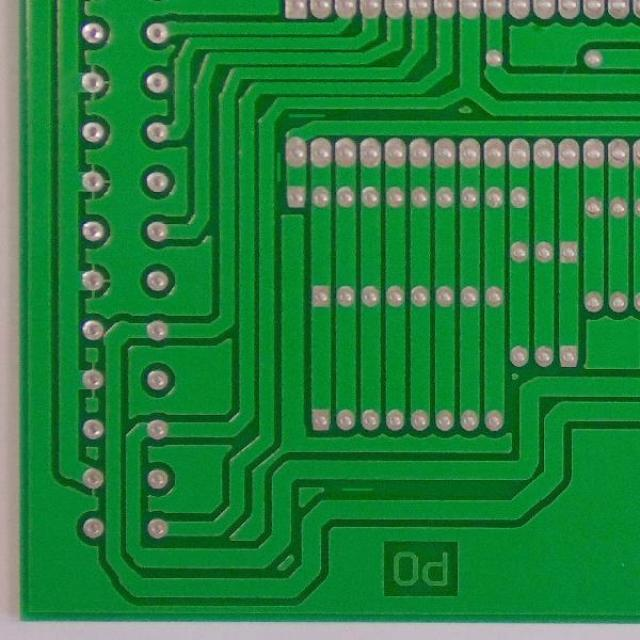spurious_copper: (336, 477, 380, 502), (284, 106, 330, 124), (273, 148, 285, 187)
